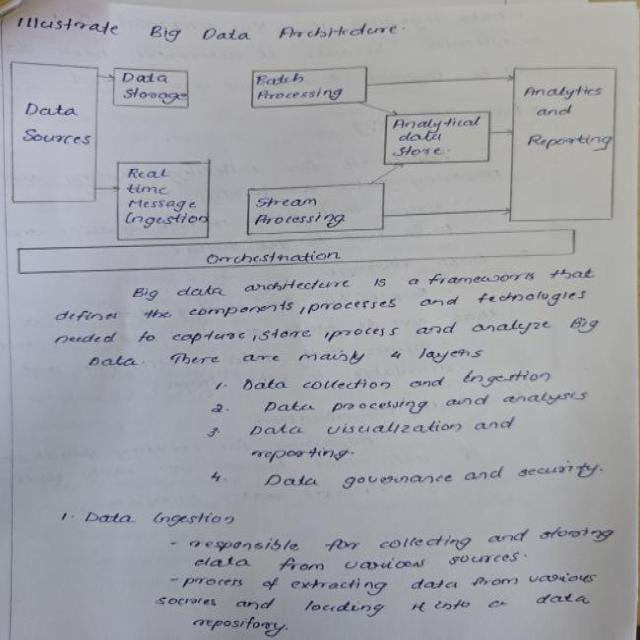Figure Detection - v3 Dataset Version2: (5, 41, 626, 274)
